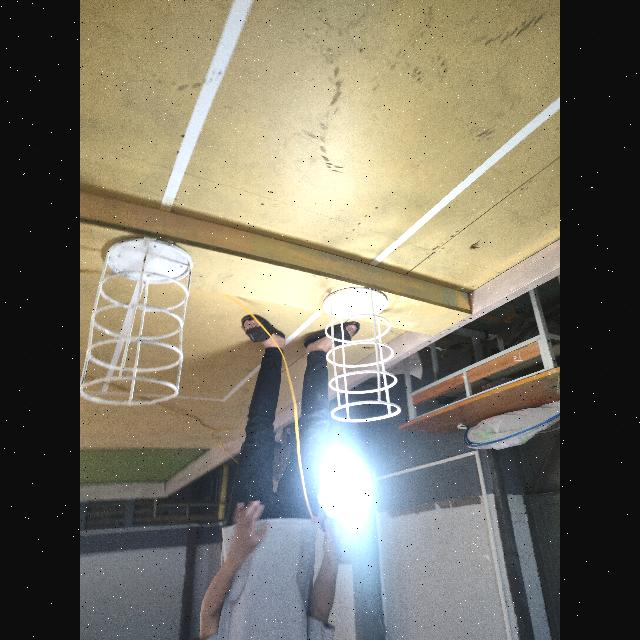S: (80, 234, 196, 408), (317, 284, 409, 426)
